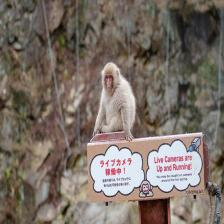monkey: (94, 59, 138, 144)
